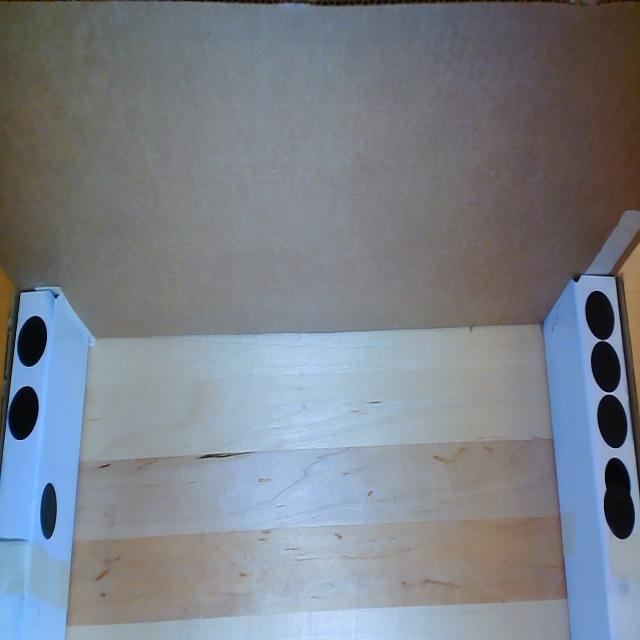Hole: (603, 459, 632, 500)
Sticker: (16, 311, 48, 370), (8, 384, 39, 443), (603, 484, 635, 539), (596, 395, 628, 445), (590, 344, 621, 392), (586, 290, 615, 339), (39, 479, 57, 542)
